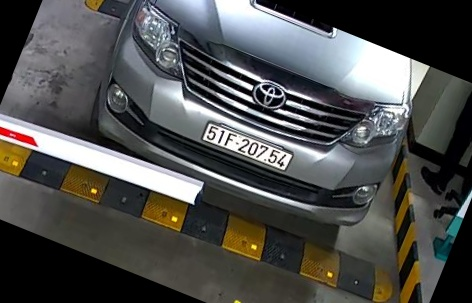plate: (200, 116, 299, 175)
